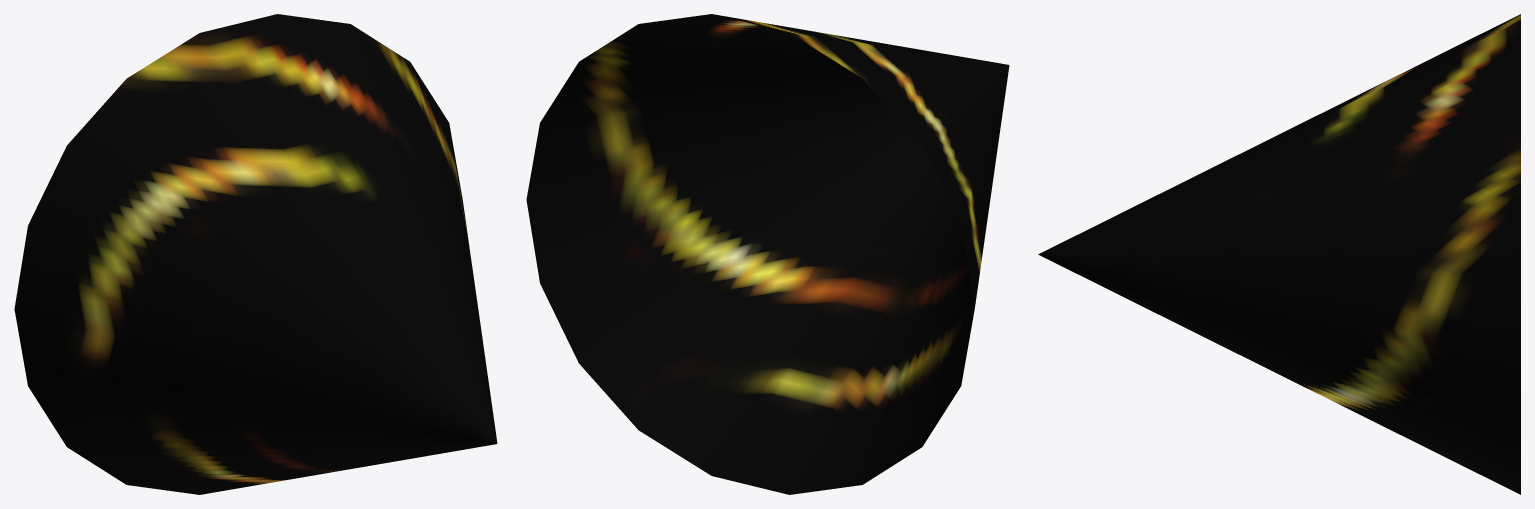
The model's file is fx_fbx_101_loudou.FBX.
3 renders of one model, left to right at view 1: azimuth 30°, elevation 25°; view 2: azimuth 150°, elevation 25°; view 3: azimuth 270°, elevation 25°, orthographic. The views are drawn at different scales.
Parts seen in each view (by area): view 1: Cone001; view 2: Cone001; view 3: Cone001.
Part boxes in pixels (box(x1,y1,x2,y2)): Cone001: box(14, 14, 497, 494); Cone001: box(526, 14, 1009, 494); Cone001: box(1038, 14, 1520, 494).
Size of the model in its own units: 56 by 56.02 by 55.15.
Materials: 1 (1 with a texture image).
